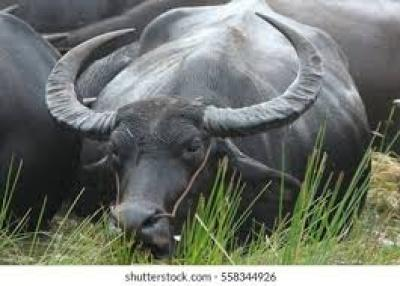buffalo: (0, 0, 399, 256)
